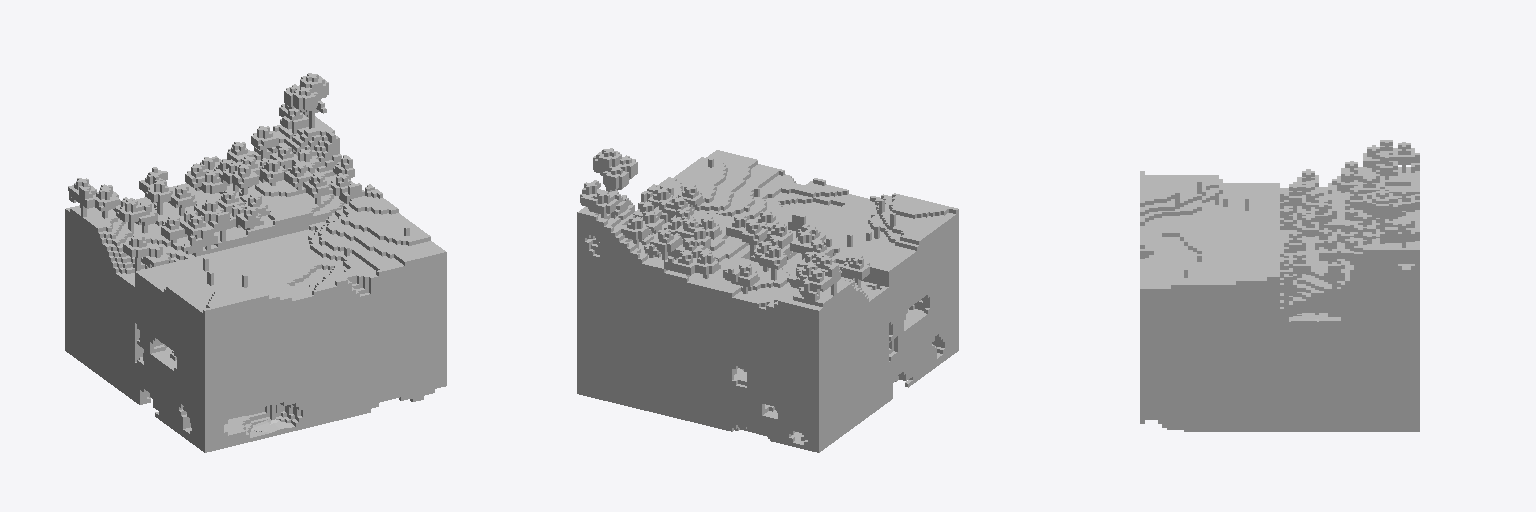
File: large-desert-forest-connected.obj
The picture shows the model from 3 angles: view 1: azimuth 30°, elevation 25°; view 2: azimuth 150°, elevation 25°; view 3: azimuth 270°, elevation 25°; orthographic projection.
Visible parts, largest first — view 1: Honors_World__5_141_-445_to_68_211_-382; view 2: Honors_World__5_141_-445_to_68_211_-382; view 3: Honors_World__5_141_-445_to_68_211_-382.
Part boxes in pixels (left/top/right/bottom): Honors_World__5_141_-445_to_68_211_-382: left=65, top=73, right=446, bottom=452; Honors_World__5_141_-445_to_68_211_-382: left=577, top=148, right=958, bottom=452; Honors_World__5_141_-445_to_68_211_-382: left=1140, top=140, right=1419, bottom=431.
Size of the model in its own units: 64 by 59 by 64.